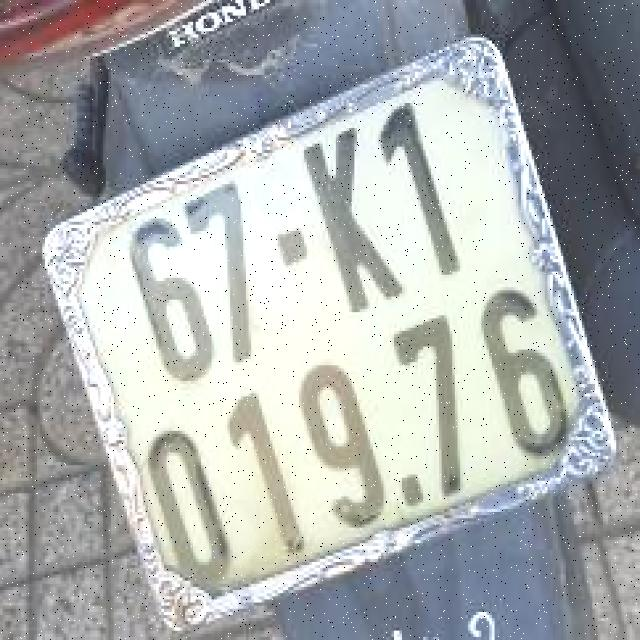0: (136, 408, 249, 610)
1: (365, 90, 479, 294), (214, 378, 319, 567)
6: (462, 270, 580, 472), (112, 202, 226, 395)
7: (380, 303, 492, 509), (175, 171, 280, 375)
9: (284, 347, 403, 540)
K: (287, 112, 412, 327)
